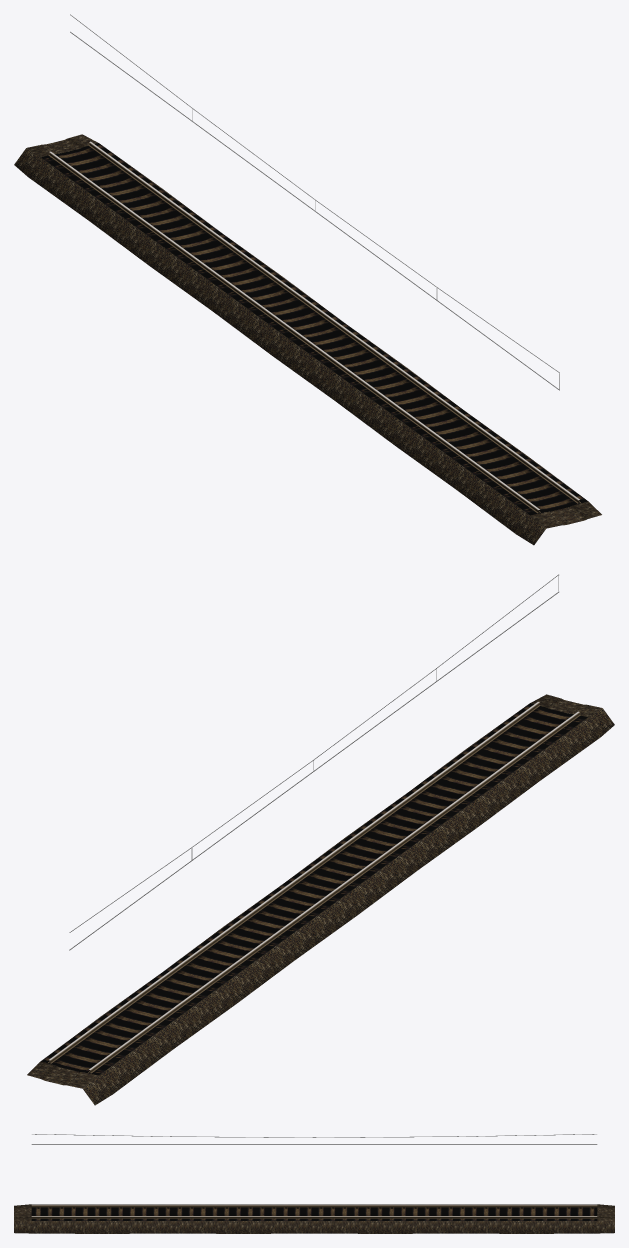
File: AMB_KIN_1RAIL100.glb
3 views of the same model, one above another, from view 1: azimuth 30°, elevation 25°; view 2: azimuth 150°, elevation 25°; view 3: azimuth 270°, elevation 25° (orthographic). The views are drawn at different scales.
Visible parts, largest first — view 1: obj1; view 2: obj1; view 3: obj1.
Boxes of the visible parts, left/top/right/bottom form: obj1: left=14, top=14, right=601, bottom=545; obj1: left=27, top=574, right=614, bottom=1105; obj1: left=14, top=1134, right=614, bottom=1233.
Size of the model in its own units: 10.09 by 17.11 by 106.
6 materials, 4 textured.
